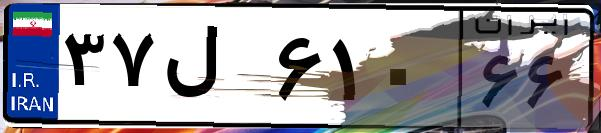0: (385, 28, 445, 110)
1: (330, 28, 385, 110)
3: (57, 26, 110, 100)
6: (270, 28, 330, 110), (475, 38, 525, 113), (525, 38, 570, 115)
7: (110, 28, 158, 98)
ل: (158, 20, 270, 120)
